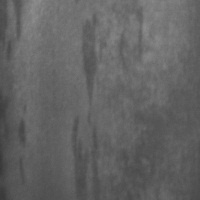inclusion: (69, 6, 107, 198), (11, 100, 39, 188), (113, 4, 147, 74), (0, 1, 29, 65)
